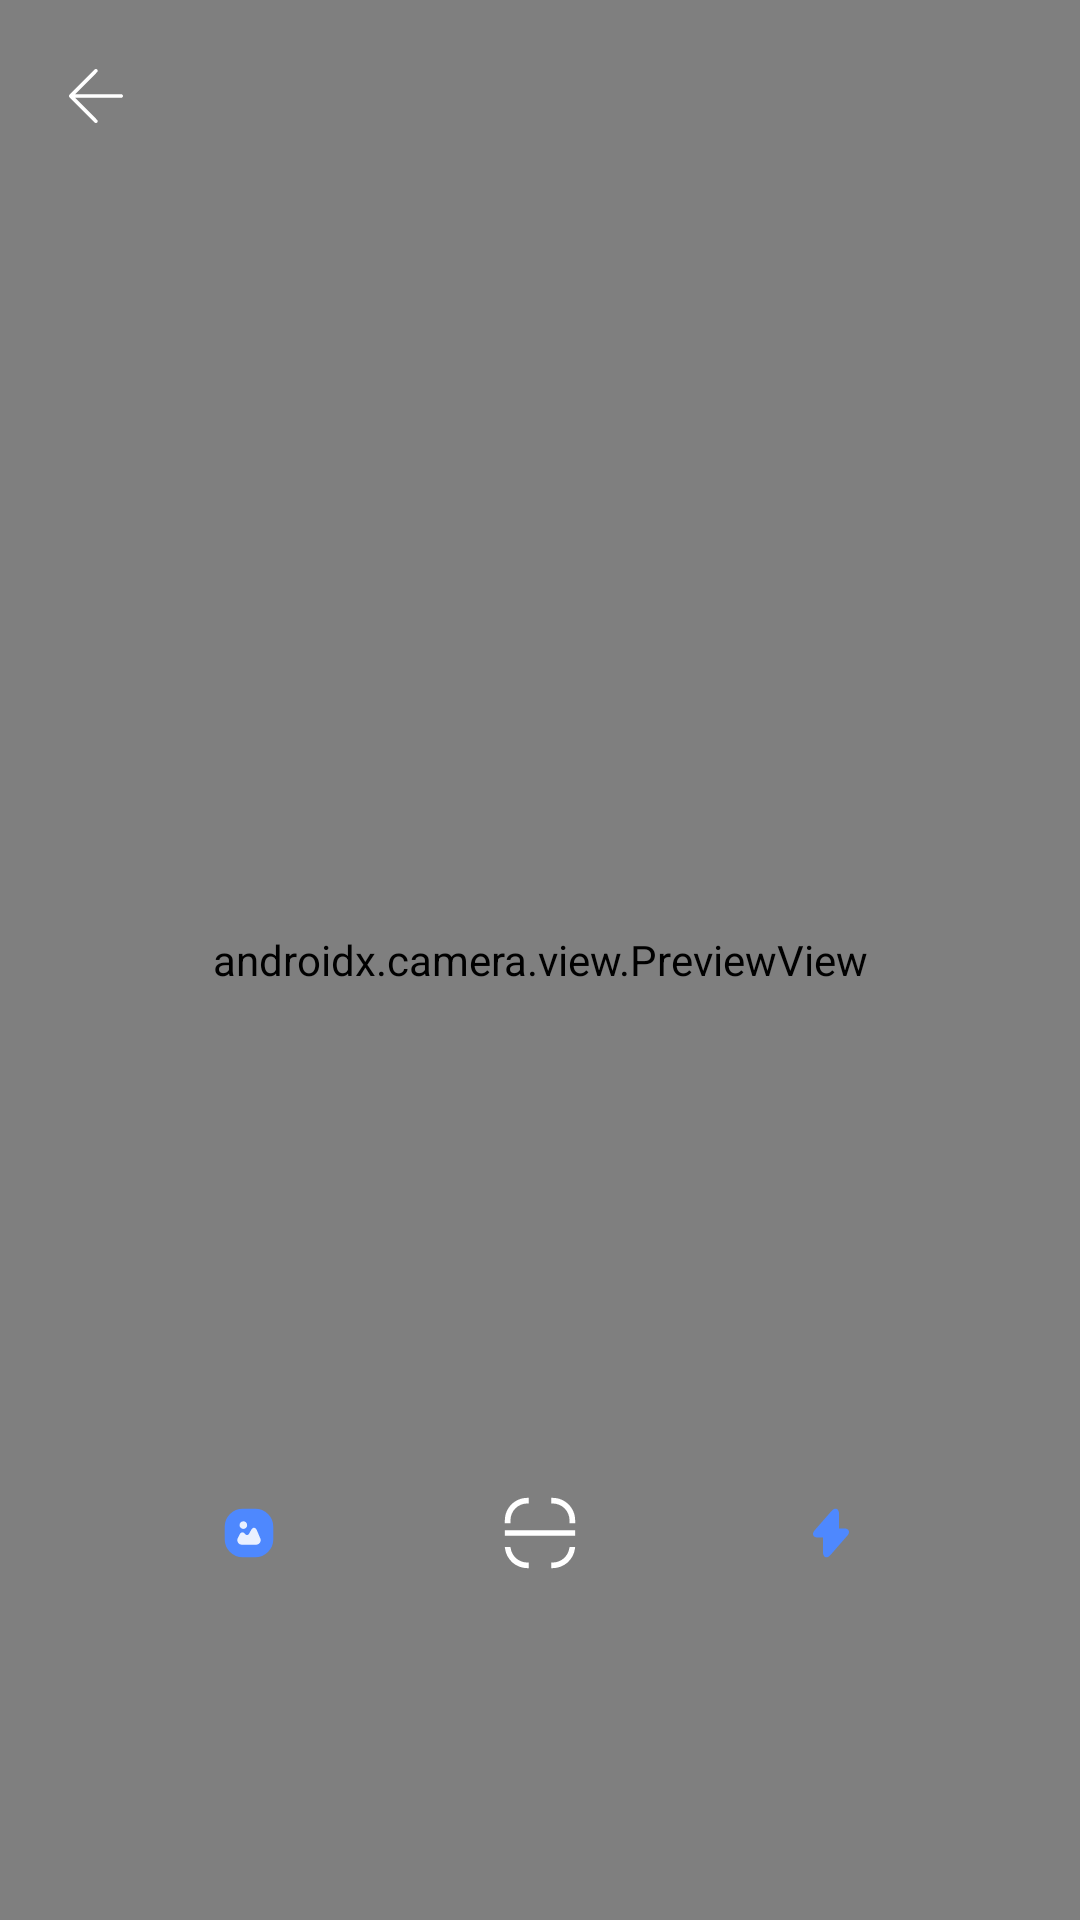

Named icons in this screenshot (1080*1920) and their centers, (x=x, y=y):
back: (x=96, y=96)
flash on: (x=831, y=1533)
photo: (x=249, y=1533)
